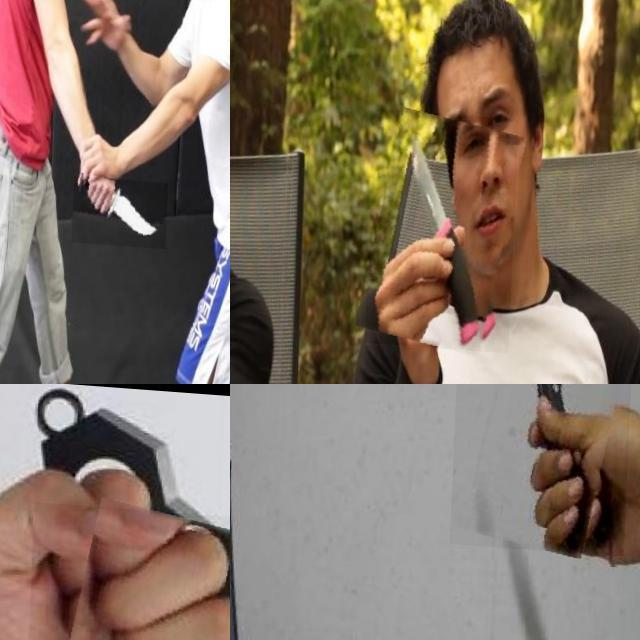-: (368, 104, 520, 346), (452, 384, 638, 555), (17, 500, 230, 640), (75, 172, 172, 244)
